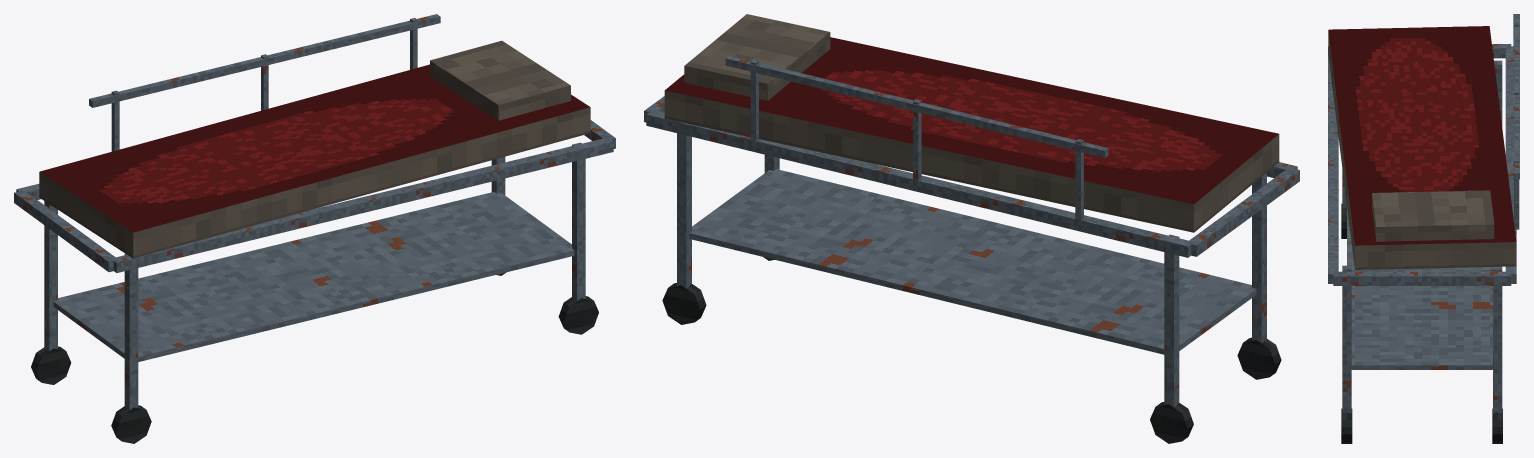
Rendered from gurney.gltf.
The picture shows the model from 3 angles, left to right: view 1: azimuth 30°, elevation 25°; view 2: azimuth 150°, elevation 25°; view 3: azimuth 270°, elevation 25°; orthographic projection. The views are drawn at different scales.
Visible parts, largest first — view 1: gurney; view 2: gurney; view 3: gurney.
Boxes of the visible parts, box(x1,y1,x2,y2) form: gurney: box(14, 14, 615, 443); gurney: box(644, 14, 1299, 443); gurney: box(1328, 14, 1519, 443).
Bounding box in the file's own units: 2.04 × 1.02 × 0.7125.
Materials: 4 (4 with a texture image).
